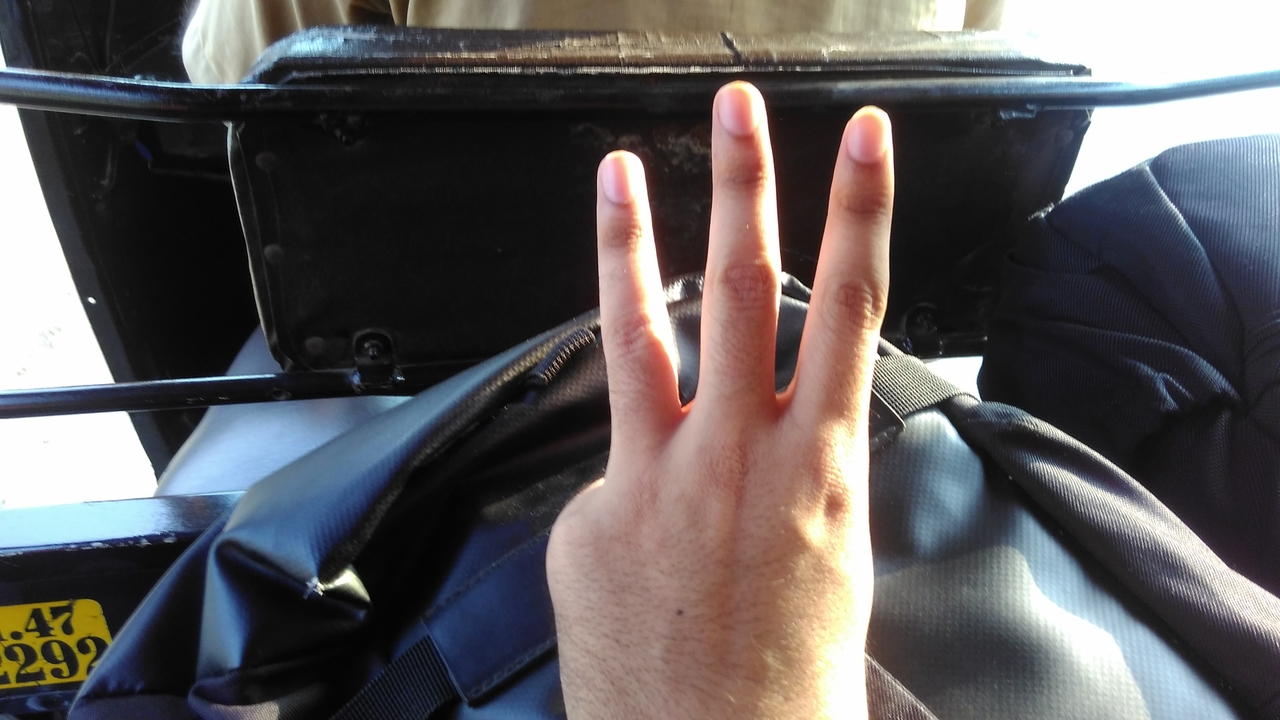fingertip: (838, 98, 902, 172), (708, 74, 772, 144), (594, 142, 650, 208)
